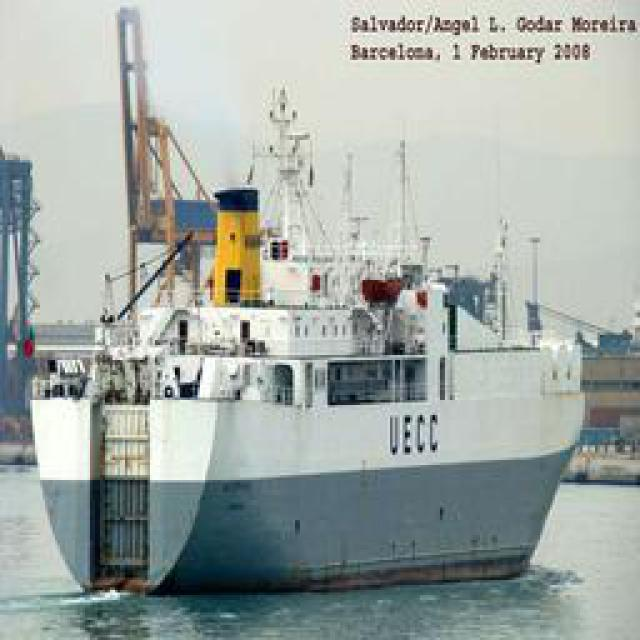Ship: (26, 26, 581, 606)
